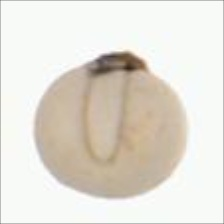L5: (82, 71, 129, 171), (76, 48, 151, 74)
L6: (30, 49, 189, 202)
